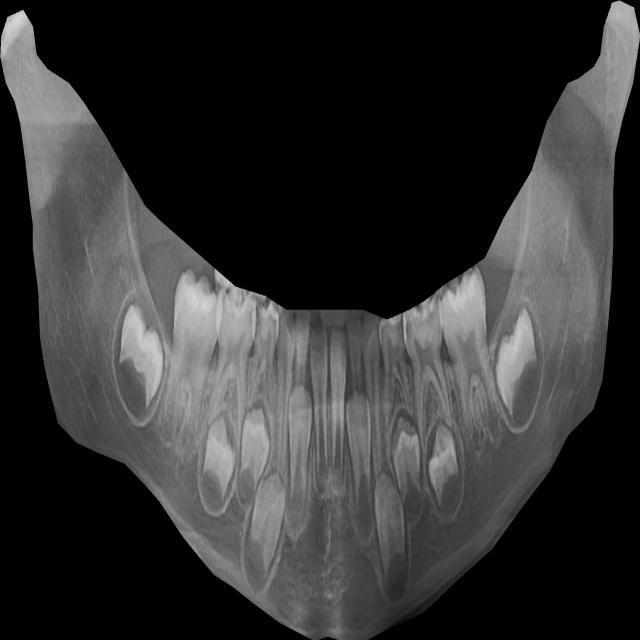mandibula: (0, 0, 640, 640)
